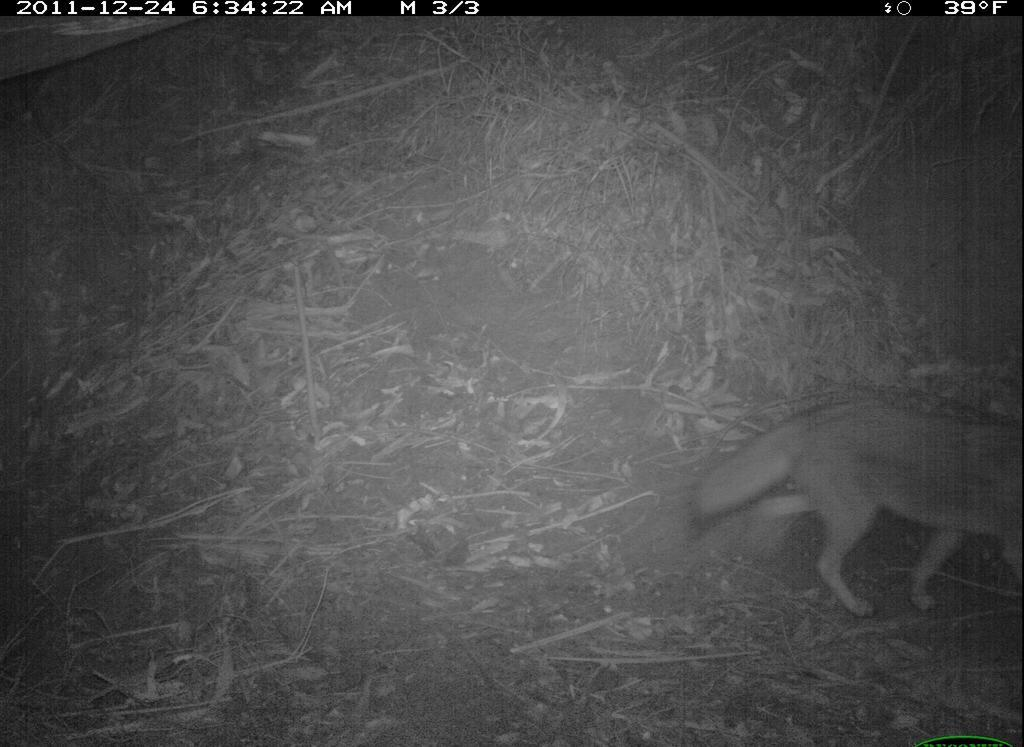coyote: (692, 391, 1023, 626)
